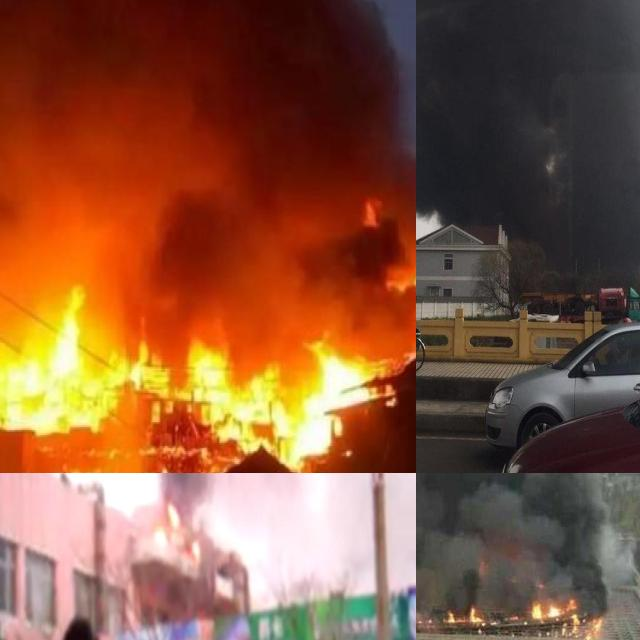fire: (0, 267, 396, 473), (527, 594, 601, 635), (153, 498, 197, 558), (401, 256, 416, 351), (449, 604, 484, 627), (445, 608, 468, 624), (445, 608, 457, 623)
smoke: (0, 0, 416, 352), (416, 0, 640, 285), (416, 473, 632, 605)
